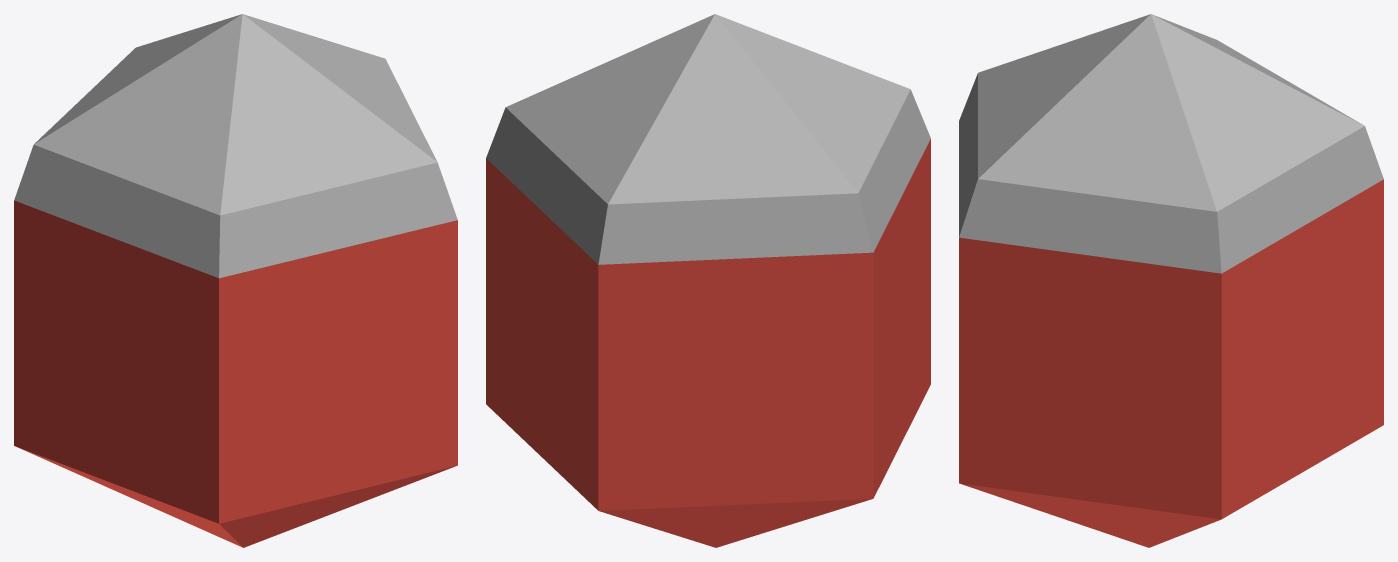
Rendered from FishingNet_1 Winter.fbx.
The picture shows the model from 3 angles, left to right: view 1: azimuth 30°, elevation 25°; view 2: azimuth 150°, elevation 25°; view 3: azimuth 270°, elevation 25°; orthographic projection.
Visible parts, largest first — view 1: Fishingnet1Winter_mesh; view 2: Fishingnet1Winter_mesh; view 3: Fishingnet1Winter_mesh.
Part boxes in pixels (box(x1,y1,x2,y2)): Fishingnet1Winter_mesh: box(14, 14, 457, 547); Fishingnet1Winter_mesh: box(486, 14, 930, 547); Fishingnet1Winter_mesh: box(959, 14, 1383, 547).
Size of the model in its own units: 9.95 by 13.12 by 9.46.
